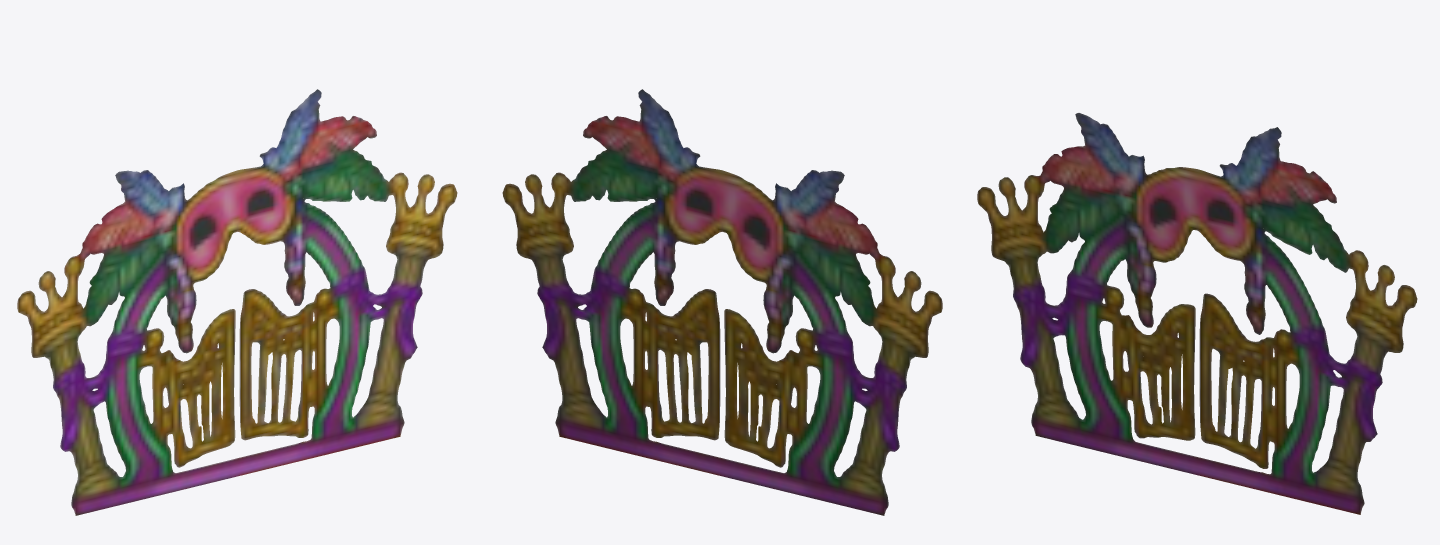
Rendered from mardi_gras.glb.
3 renders of one model, left to right at view 1: azimuth 30°, elevation 25°; view 2: azimuth 150°, elevation 25°; view 3: azimuth 330°, elevation 25°, orthographic.
Parts seen in each view (by area): view 1: partyDecoration_MardiGras__billboard; view 2: partyDecoration_MardiGras__billboard; view 3: partyDecoration_MardiGras__billboard.
Part boxes in pixels (bbox=[...]): partyDecoration_MardiGras__billboard: bbox=[17, 89, 457, 515]; partyDecoration_MardiGras__billboard: bbox=[502, 89, 942, 515]; partyDecoration_MardiGras__billboard: bbox=[977, 113, 1417, 514].
Size of the model in its own units: 7.12 by 6.12 by 0.
Materials: 1 (1 with a texture image).
